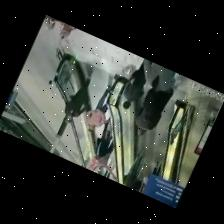person: (135, 89, 172, 134), (143, 59, 175, 104), (64, 75, 90, 122), (86, 86, 109, 131), (123, 63, 145, 107), (143, 88, 172, 121), (96, 140, 115, 178), (122, 153, 142, 187), (135, 107, 160, 134), (95, 122, 111, 160), (132, 162, 146, 191), (60, 22, 75, 38), (44, 15, 57, 29), (152, 162, 160, 175), (103, 170, 109, 177)
